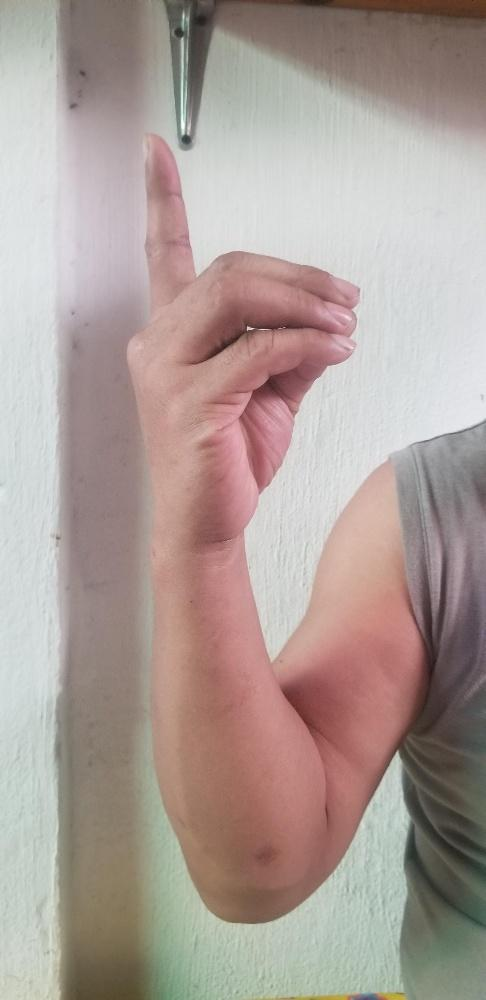d: (130, 126, 360, 523)
